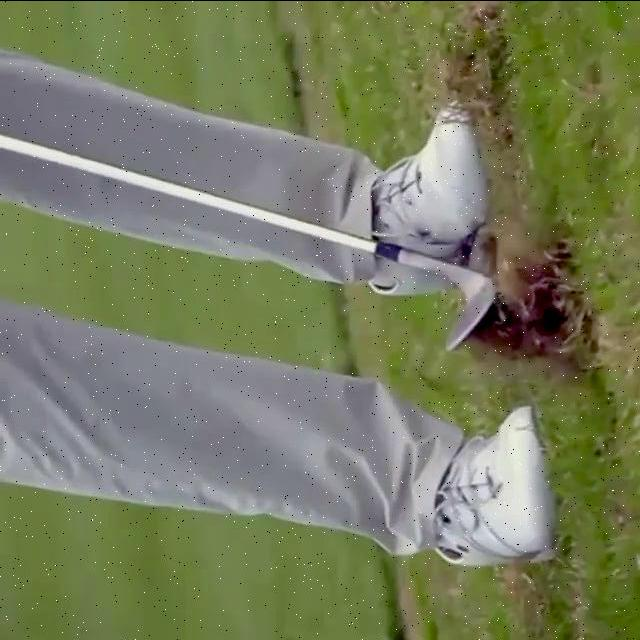golf club-handle: (0, 133, 498, 352)
golf club-head: (445, 264, 497, 350)
